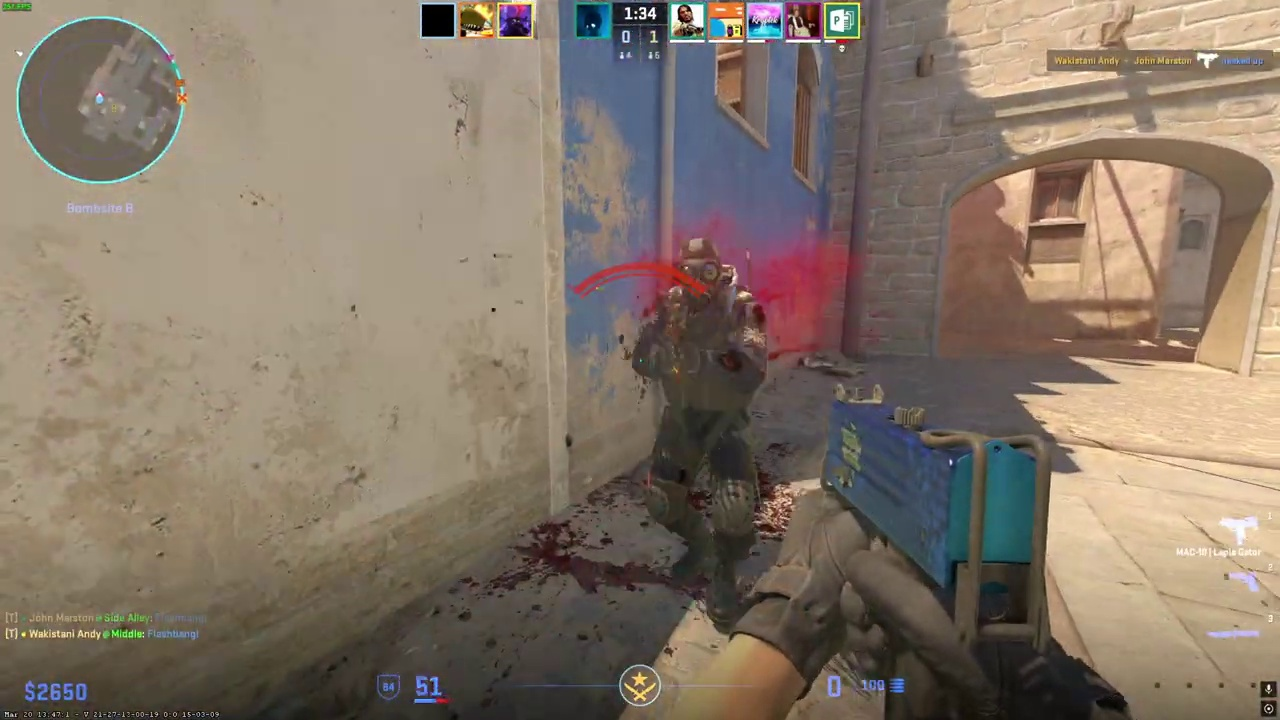CT: (633, 238, 769, 619)
